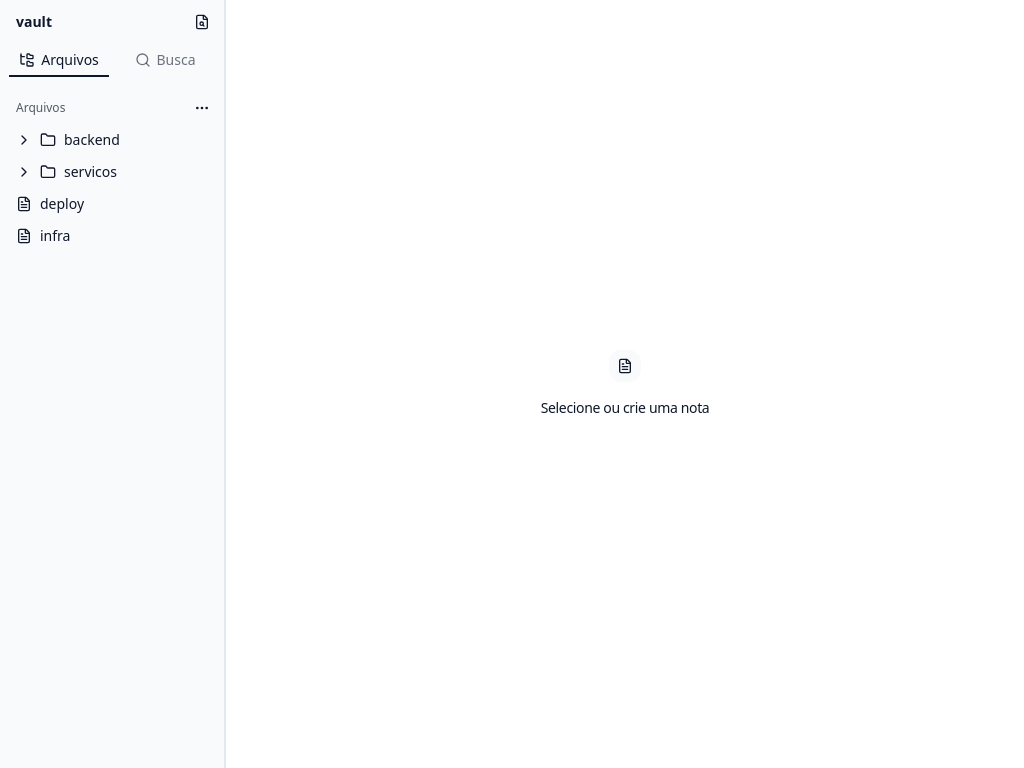
it: o editor acompanha as operações do vault › mover a nota aberta atualiza o caminho do editor
The width and height of the screenshot is (1024, 768).
expect the navigation bar named "Arquivos do vault" is shown: met, box [8,124,216,252]
Click the button "deploy". click: (112, 204)
box: [8,188,216,220]
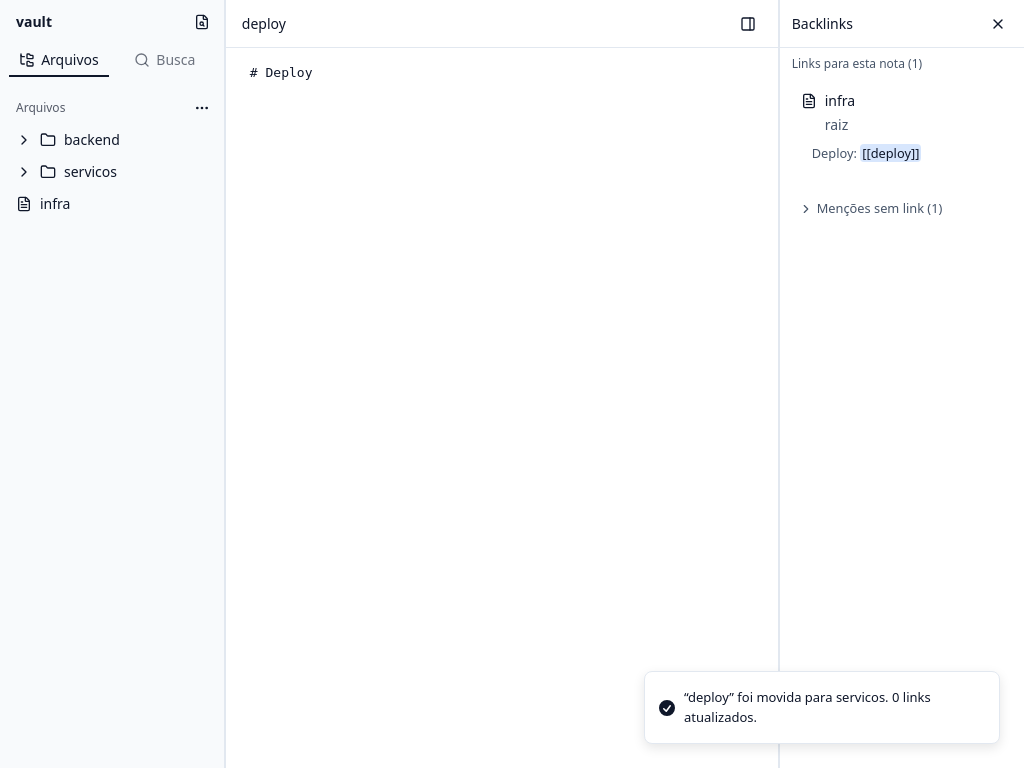
expect the element "deploy" is shown: met, box [226,0,778,767]
